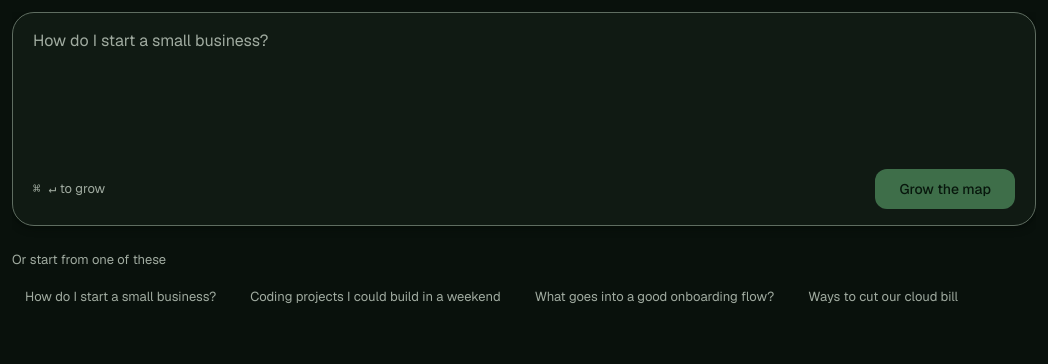
Scenario: AIMindmapInput › shows generic copy for an unexpected failure and re-enables generation
Type "Plan a launch" into the text box.
click(524, 89); type("Plan a launch")  # box x1=13 y1=13 x2=1035 y2=165
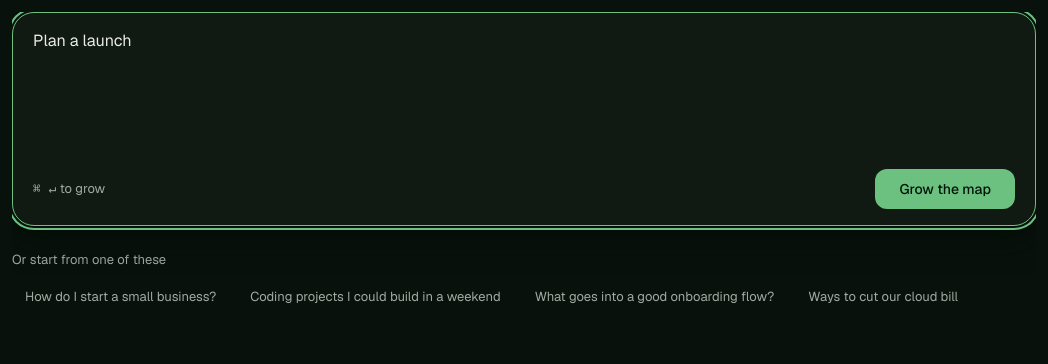
Click the button "Grow the map".
click(945, 189)  # box x1=876 y1=169 x2=1015 y2=209
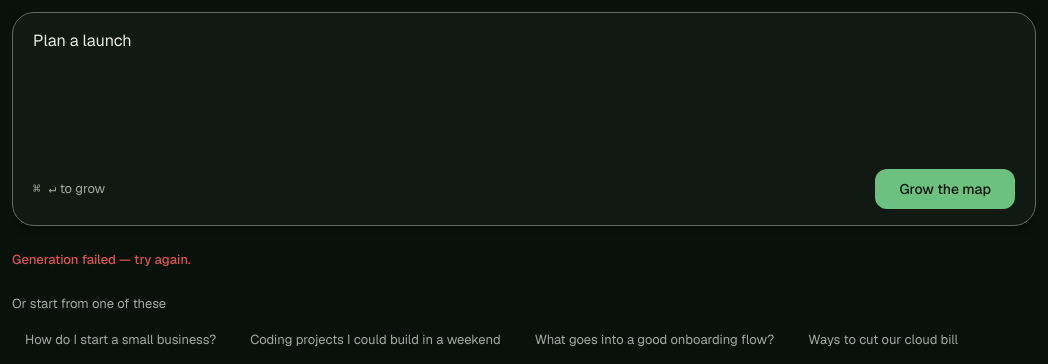
Check: the button "Grow the map" is enabled, box x1=876 y1=169 x2=1015 y2=209
Check: the message reads "Generation failed — try again.", box x1=12 y1=251 x2=191 y2=268
